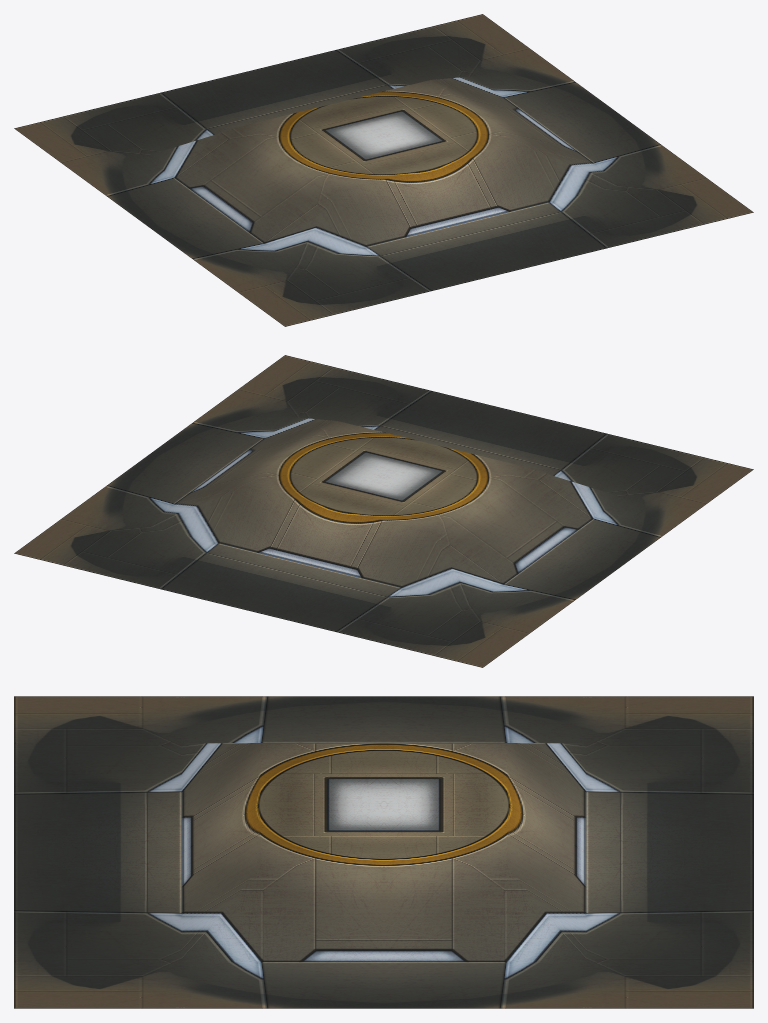
The model's file is Roof.FBX.
3 views of the same model, one above another, from view 1: azimuth 30°, elevation 25°; view 2: azimuth 150°, elevation 25°; view 3: azimuth 270°, elevation 25° (orthographic). The views are drawn at different scales.
Parts seen in each view (by area): view 1: Roof; view 2: Roof; view 3: Roof.
Part boxes in pixels (x1,y1,x2,y2): Roof: [14, 14, 753, 326]; Roof: [14, 355, 753, 667]; Roof: [14, 696, 753, 1008].
Size of the model in its own units: 6697 by 6707 by 477.
